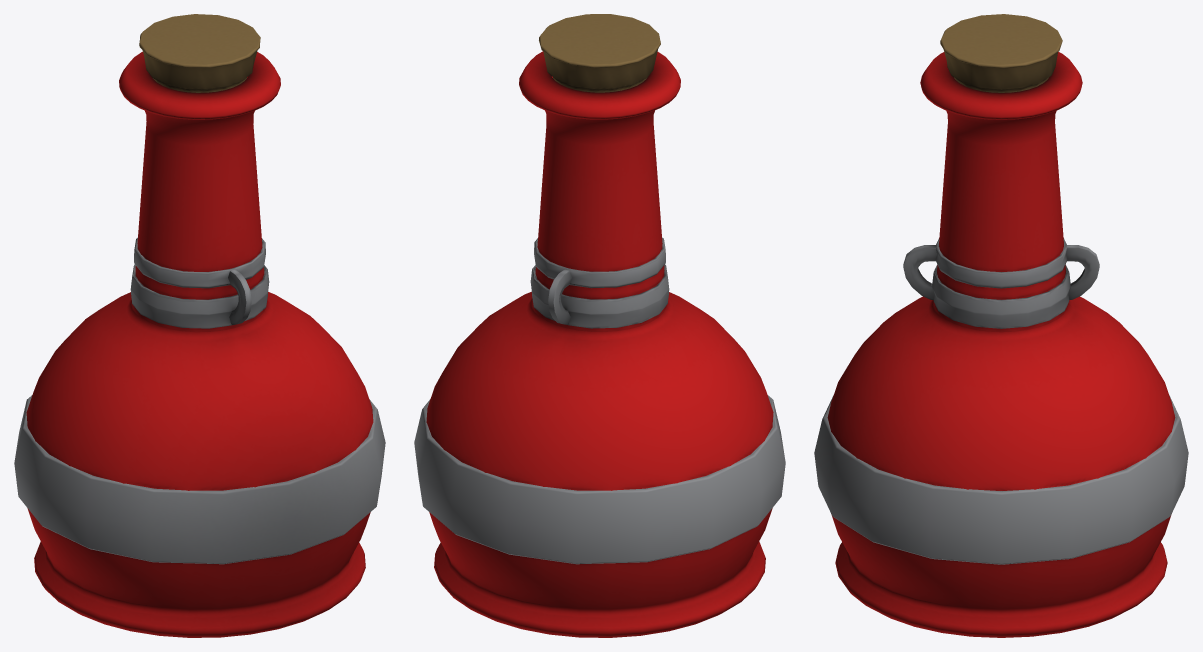
The model's file is Alchemy Bottle 3.fbx.
The picture shows the model from 3 angles, left to right: view 1: azimuth 30°, elevation 25°; view 2: azimuth 150°, elevation 25°; view 3: azimuth 270°, elevation 25°; orthographic projection.
Parts seen in each view (by area): view 1: Alchemy_Bottle_3; view 2: Alchemy_Bottle_3; view 3: Alchemy_Bottle_3.
Part boxes in pixels (<box>): Alchemy_Bottle_3: <box>14,14,385,637</box>; Alchemy_Bottle_3: <box>414,14,785,637</box>; Alchemy_Bottle_3: <box>814,14,1188,637</box>.
Bounding box in the file's own units: 18.83 × 29.54 × 18.83.
1 material, 1 textured.
